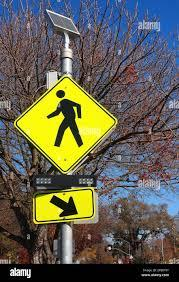Pedestrian Crossing: (12, 126, 87, 199)
